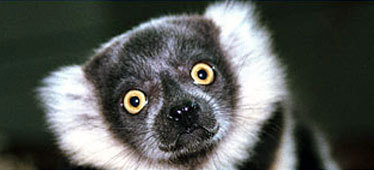cat: (29, 3, 337, 169)
